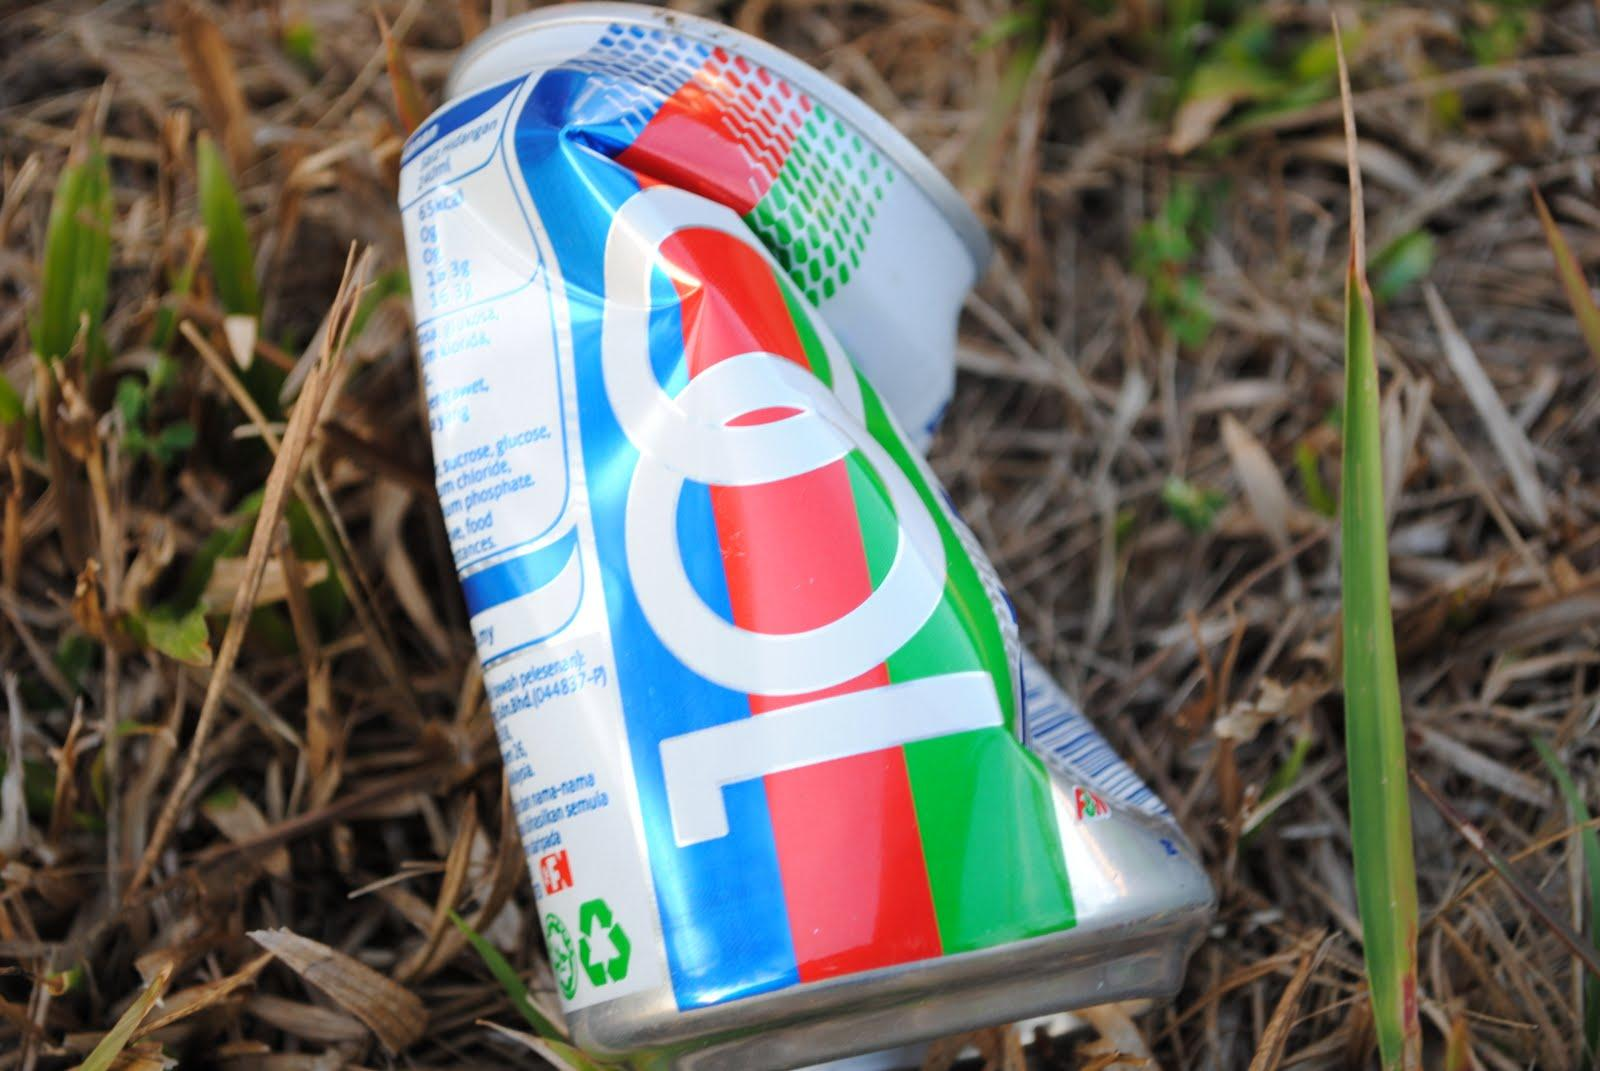metal: (407, 0, 1221, 1069)
